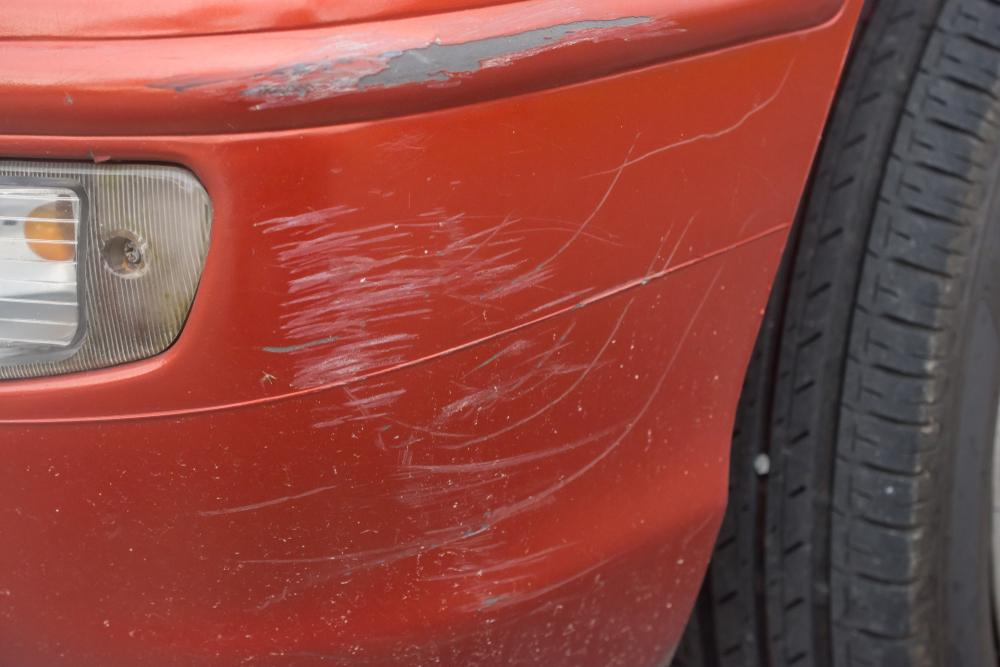scratch: (259, 80, 787, 667), (139, 9, 691, 115)
